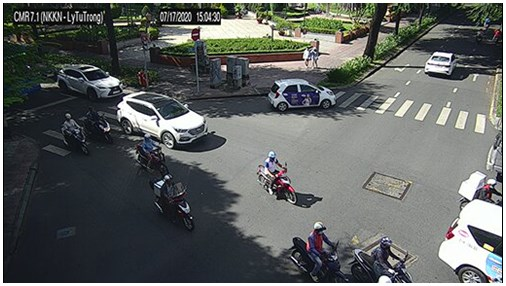di_bo: (136, 68, 150, 89), (301, 47, 310, 70), (311, 48, 319, 69)
xe_hoi: (115, 90, 209, 151), (57, 64, 123, 100), (425, 51, 458, 76)
xe_may: (149, 174, 195, 232), (257, 151, 298, 204), (458, 171, 502, 211), (137, 133, 170, 176), (60, 113, 92, 156), (82, 106, 113, 145), (493, 29, 501, 44), (476, 30, 484, 44), (483, 17, 491, 30)
xe_taxi: (438, 199, 503, 283), (268, 79, 338, 109)
